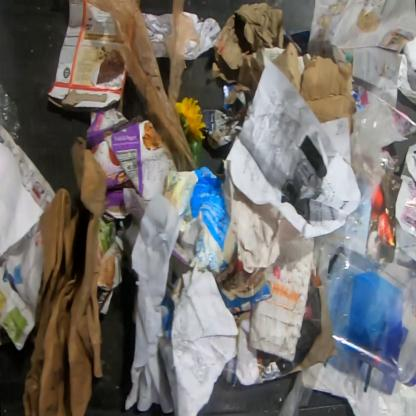cardboard: (21, 135, 109, 415), (212, 3, 357, 142), (86, 107, 176, 221), (47, 0, 126, 114), (249, 237, 316, 362), (163, 166, 235, 274), (171, 242, 190, 265)
soft_plastic: (81, 0, 201, 169), (318, 99, 407, 287), (324, 241, 416, 387), (0, 80, 22, 142)
